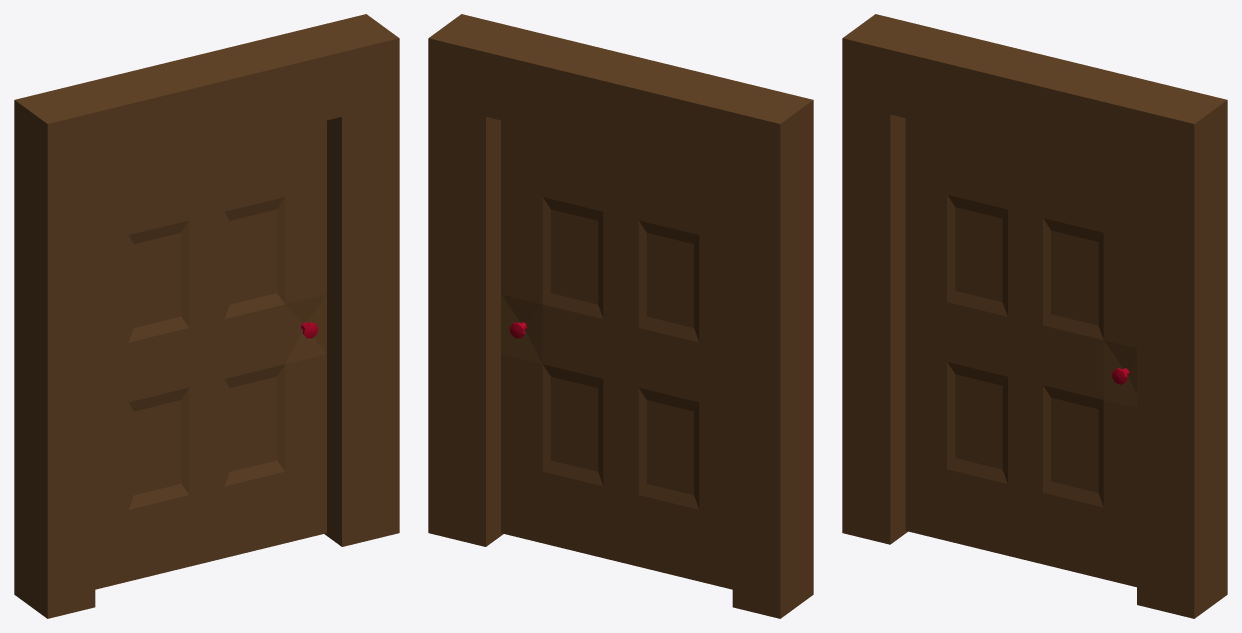
The model's file is Door.fbx.
3 renders of one model, left to right at view 1: azimuth 30°, elevation 25°; view 2: azimuth 150°, elevation 25°; view 3: azimuth 330°, elevation 25°, orthographic.
Parts seen in each view (by area): view 1: Marco, Puerta; view 2: Marco, Puerta; view 3: Marco, Puerta.
Boxes of the visible parts, box(x1,y1,x2,y2) form: Marco: box(14, 14, 399, 618); Puerta: box(95, 120, 326, 589); Marco: box(428, 14, 813, 618); Puerta: box(501, 120, 732, 589); Marco: box(842, 14, 1227, 618); Puerta: box(905, 118, 1136, 587).
Bounding box in the file's own units: 1.71 × 0.2788 × 2.3.
